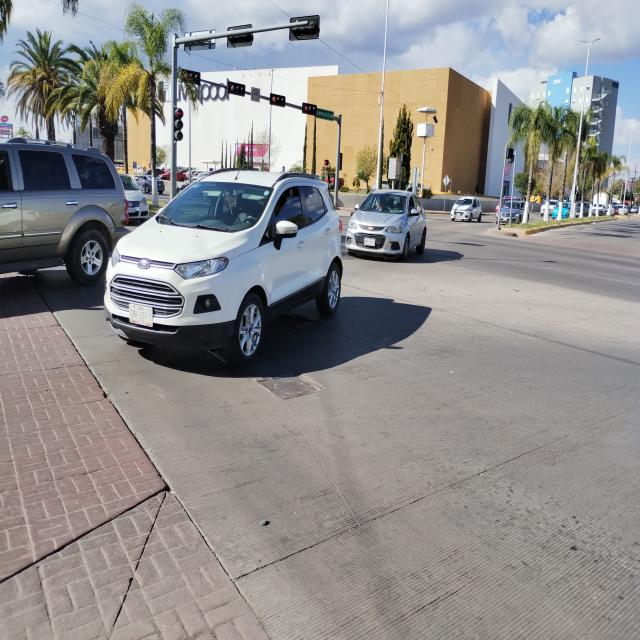Auto: (105, 166, 350, 364), (0, 138, 130, 290), (345, 186, 429, 258), (113, 167, 150, 222), (449, 196, 483, 223), (496, 200, 530, 226), (591, 192, 608, 216), (553, 202, 571, 220), (540, 200, 558, 218), (574, 200, 591, 217), (610, 204, 619, 218), (615, 204, 625, 216), (630, 206, 638, 214)
